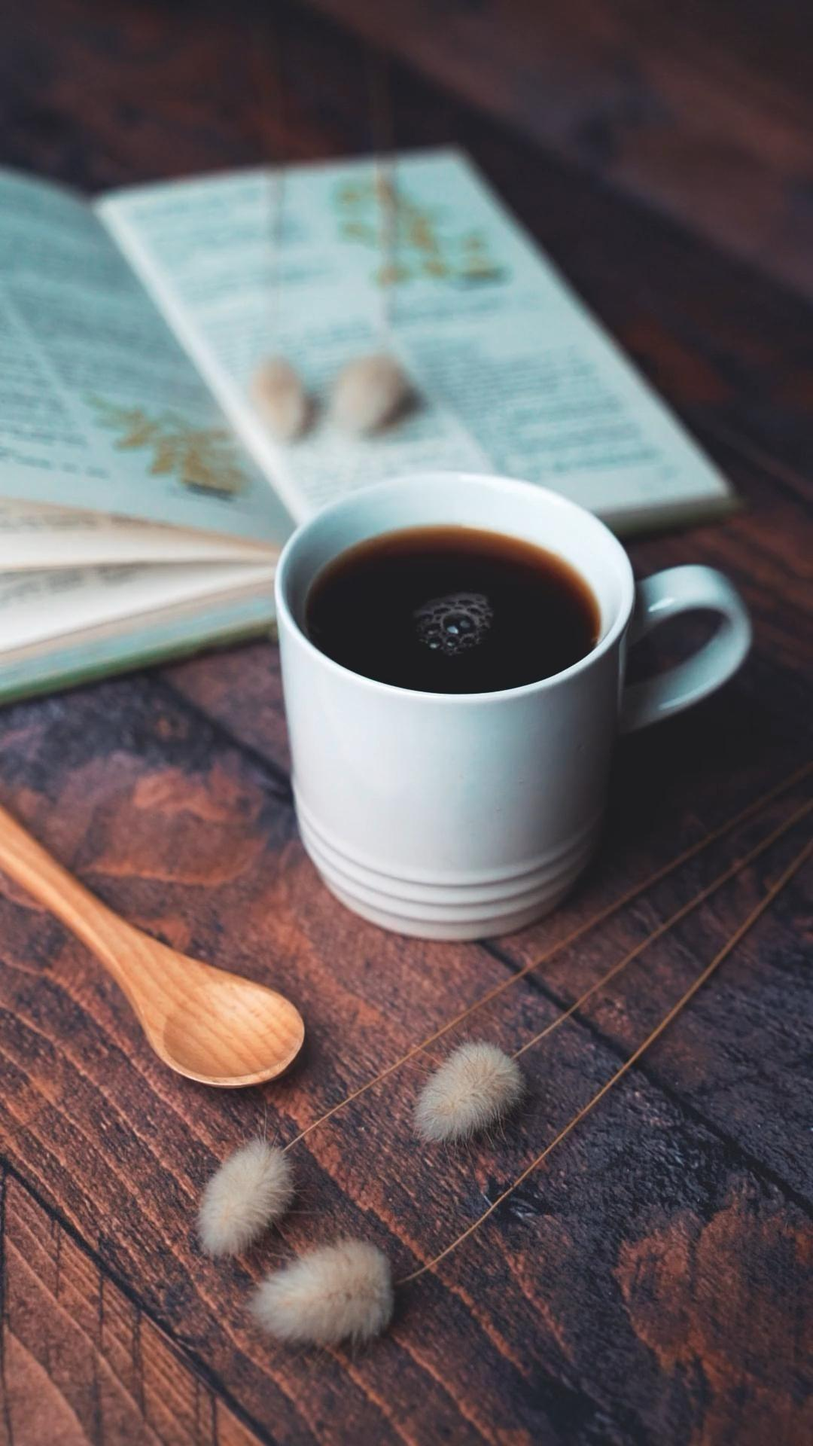cup-handle: (270, 468, 756, 945)
